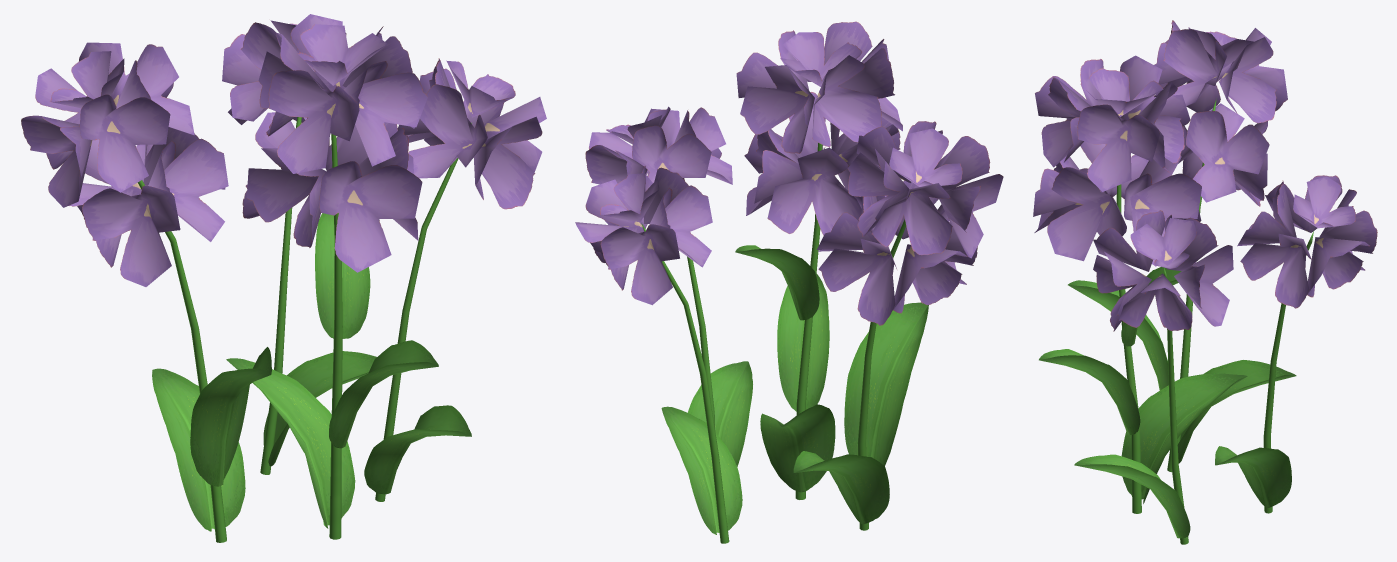
Rendered from nature_flower_2_group.glb.
The picture shows the model from 3 angles, left to right: view 1: azimuth 30°, elevation 25°; view 2: azimuth 150°, elevation 25°; view 3: azimuth 270°, elevation 25°; orthographic projection. The views are drawn at different scales.
Parts seen in each view (by area): view 1: nature_flower_2_group; view 2: nature_flower_2_group; view 3: nature_flower_2_group.
Boxes of the visible parts, x1,y1,x2,y2 form: nature_flower_2_group: [21, 14, 546, 542]; nature_flower_2_group: [575, 21, 1003, 543]; nature_flower_2_group: [1033, 20, 1377, 544].
Bounding box in the file's own units: 152 × 157 × 114.
2 materials, 2 textured.
